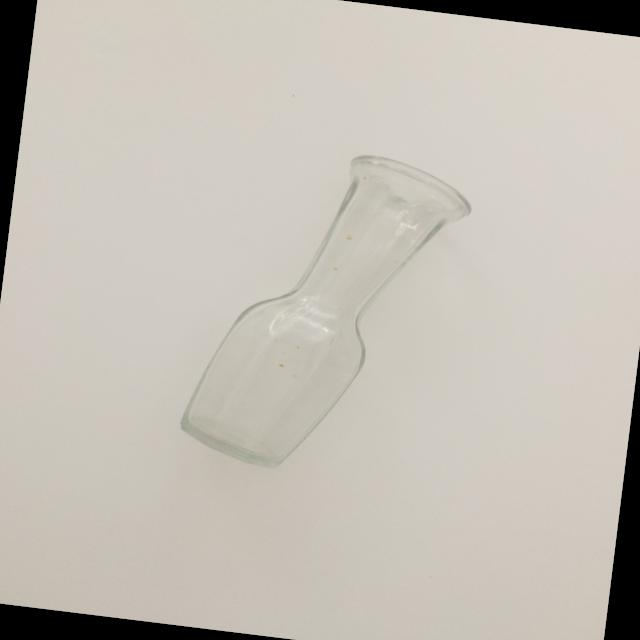Glass: (155, 124, 492, 498)
